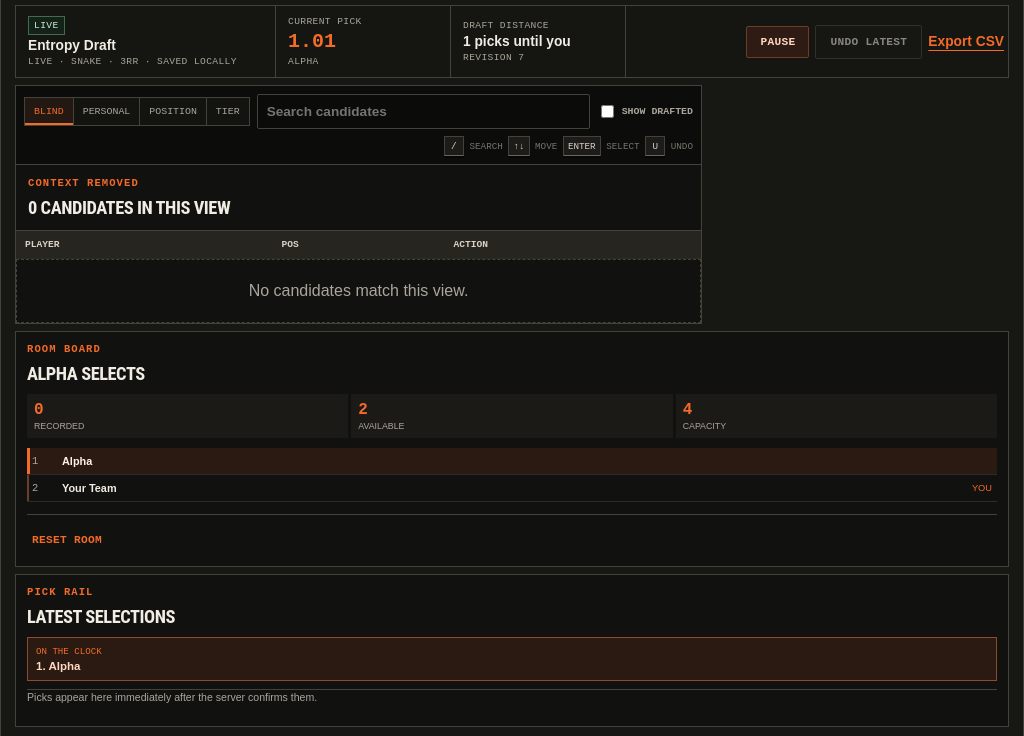
Scenario: DraftWorkspace › marks the preserved room reset when opening its replacement
This screenshot has width=1024, height=736.
(page scrolled)
Click the button "Reset room": [67, 540] box top-left (27, 525), bottom-right (107, 555)
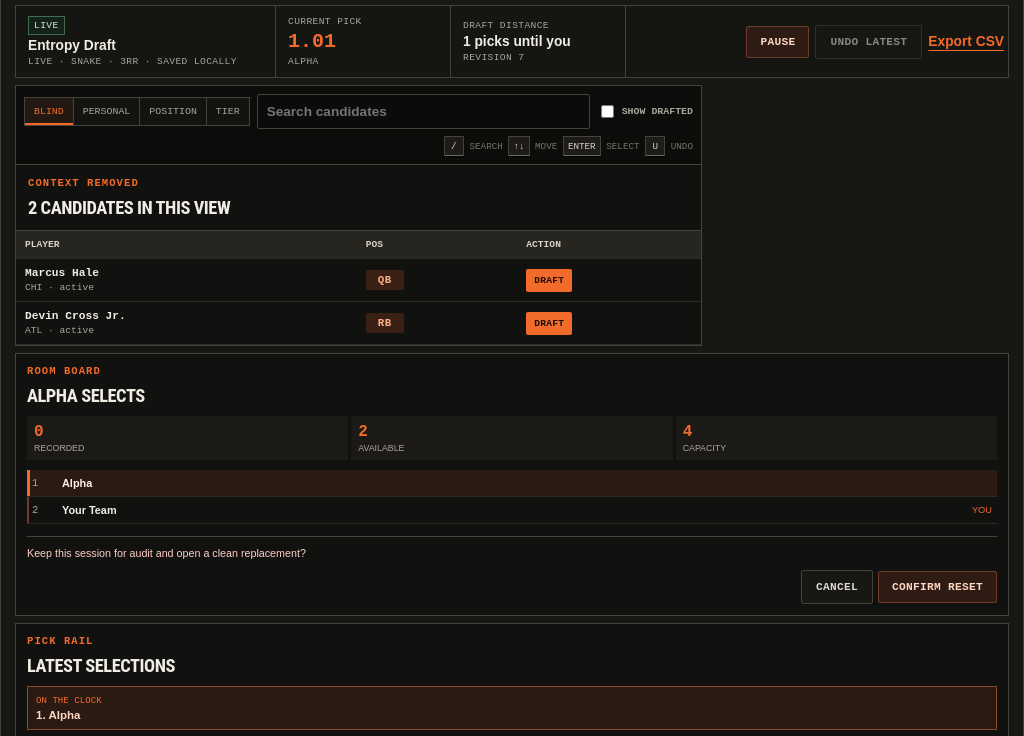
Click the button "Confirm reset": [938, 587] box top-left (878, 571), bottom-right (997, 603)
(page scrolled)
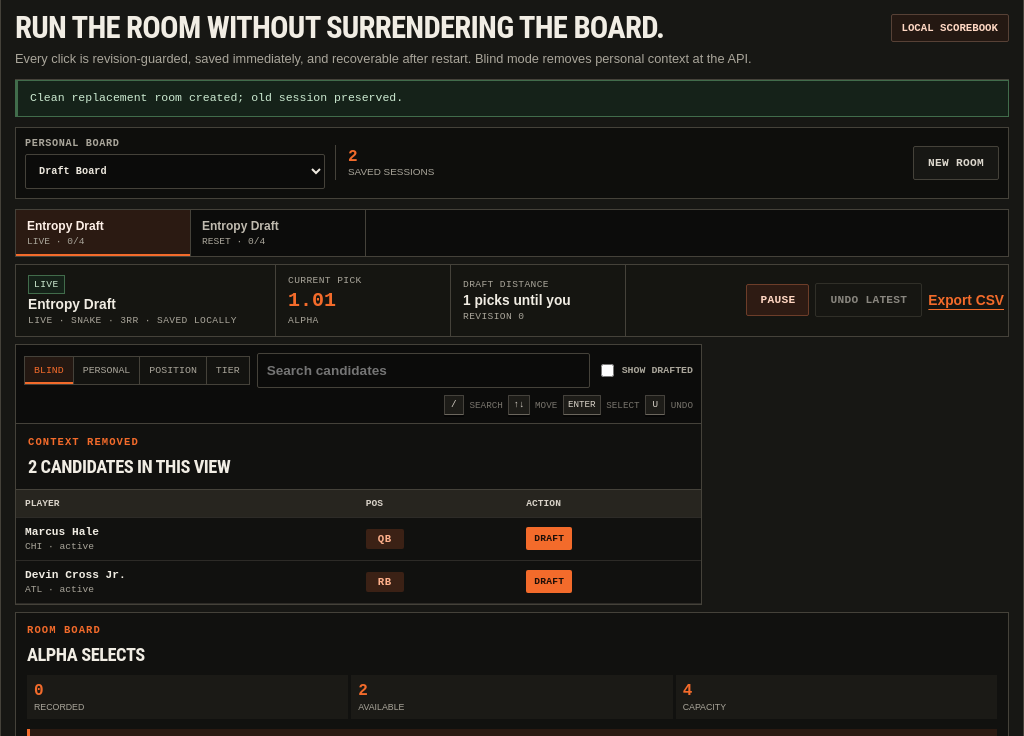
Expected: the text "Clean replacement room created; old session preserved." is shown, top-left (15, 80), bottom-right (1009, 117)
Expected: the element named "Saved draft sessions" shows "Reset", top-left (191, 210), bottom-right (366, 256)
